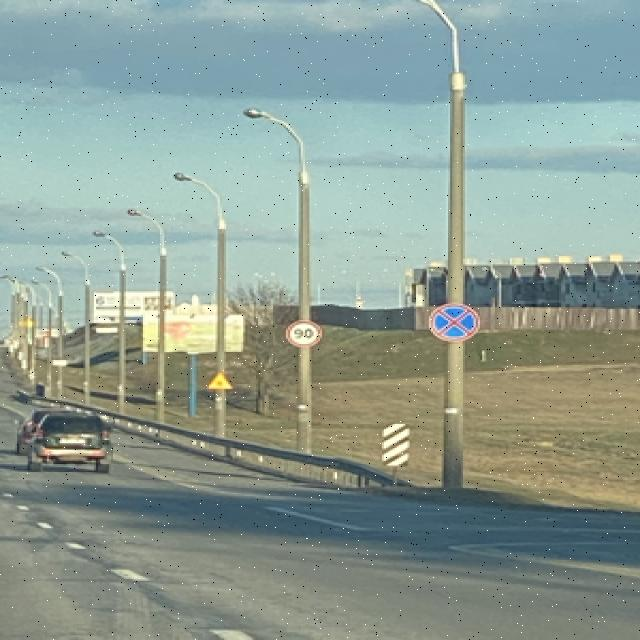Speedlimit: (284, 318, 322, 349)
